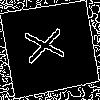X: (25, 24, 74, 66)
